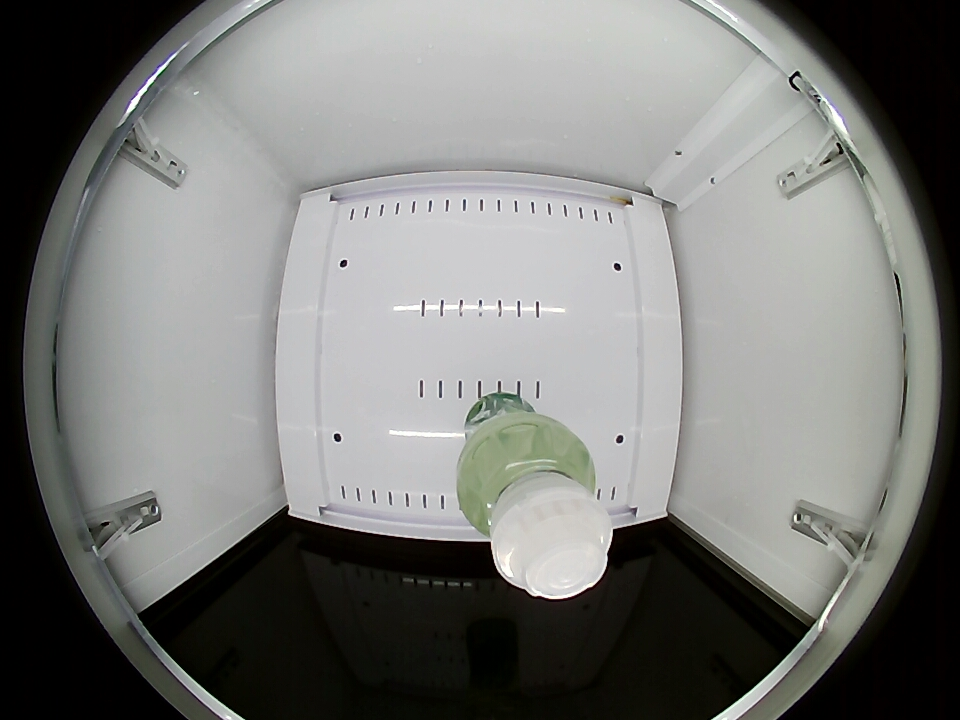jianjiao: (457, 426, 612, 600)
